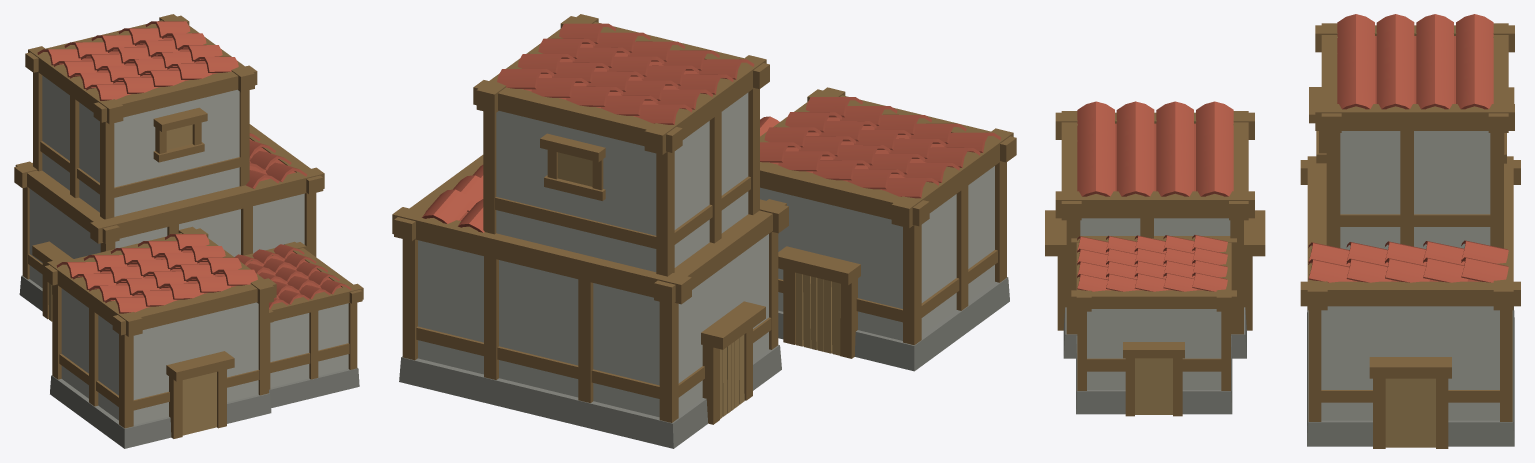
File: Houses-vCoDG5hFyI.glb
3 views of the same model, side by side, from view 1: azimuth 30°, elevation 25°; view 2: azimuth 150°, elevation 25°; view 3: azimuth 270°, elevation 25° (orthographic). The views are drawn at different scales.
Parts seen in each view (by area): view 1: Houses_SecondAge_3_Level3; view 2: Houses_SecondAge_3_Level3; view 3: Houses_SecondAge_3_Level3.
Boxes of the visible parts, <box> form: Houses_SecondAge_3_Level3: <box>14,14,363,448</box>; Houses_SecondAge_3_Level3: <box>392,14,1016,448</box>; Houses_SecondAge_3_Level3: <box>1045,14,1520,448</box>.
Size of the model in its own units: 1.35 by 1.06 by 1.46.
